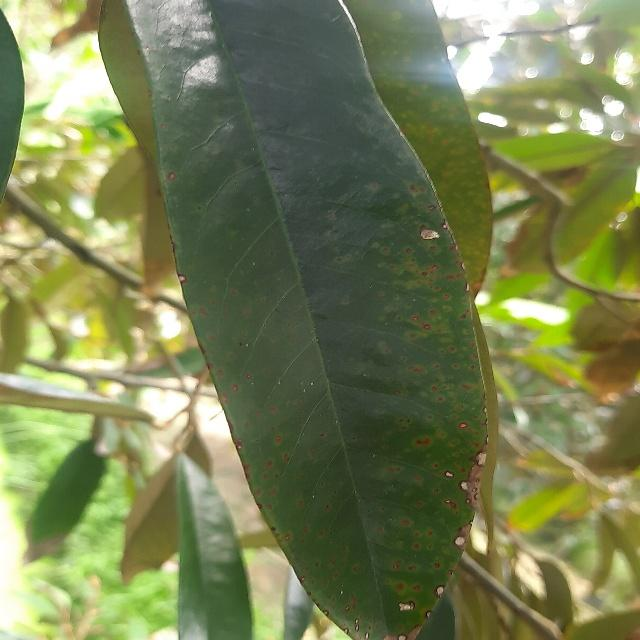Leaf Spot: (91, 0, 503, 640)
